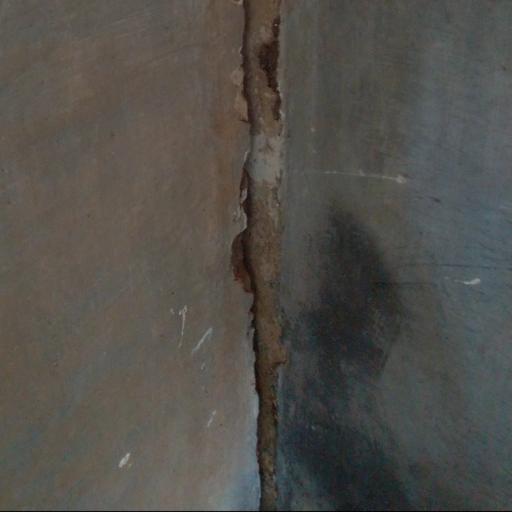major_crack: (223, 0, 306, 512)
